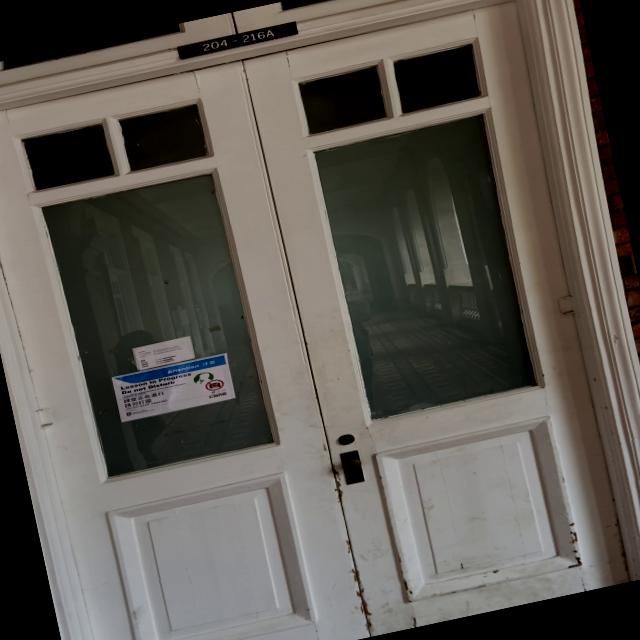room204: (170, 18, 300, 62)
